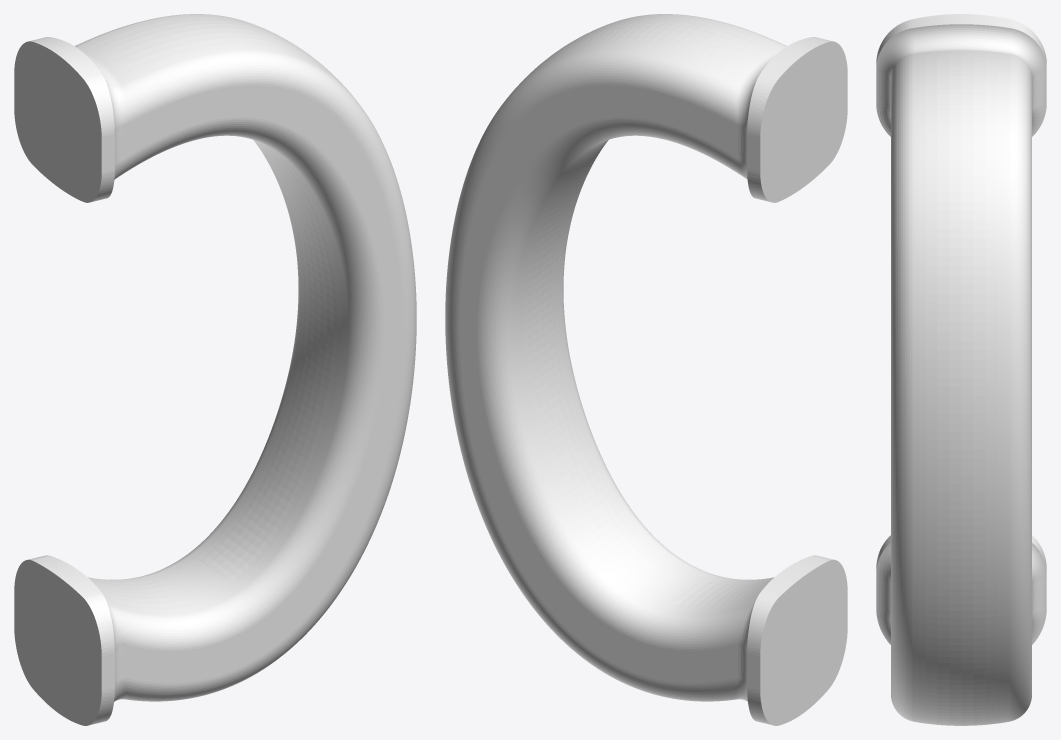
File: handle-1.glb
The picture shows the model from 3 angles, left to right: view 1: azimuth 30°, elevation 25°; view 2: azimuth 150°, elevation 25°; view 3: azimuth 270°, elevation 25°; orthographic projection. The views are drawn at different scales.
Visible parts, largest first — view 1: handle-01; view 2: handle-01; view 3: handle-01.
Part boxes in pixels (box(x1,y1,x2,y2)): handle-01: box(14, 14, 416, 725); handle-01: box(445, 14, 847, 725); handle-01: box(876, 14, 1046, 725).
Size of the model in its own units: 40.23 by 75.15 by 18.12.
Materials: 1 (1 with a texture image).
